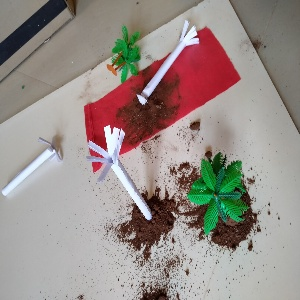plant: (187, 152, 253, 240), (106, 26, 142, 85)
weed: (84, 128, 164, 224), (141, 19, 211, 96), (2, 137, 64, 196)
